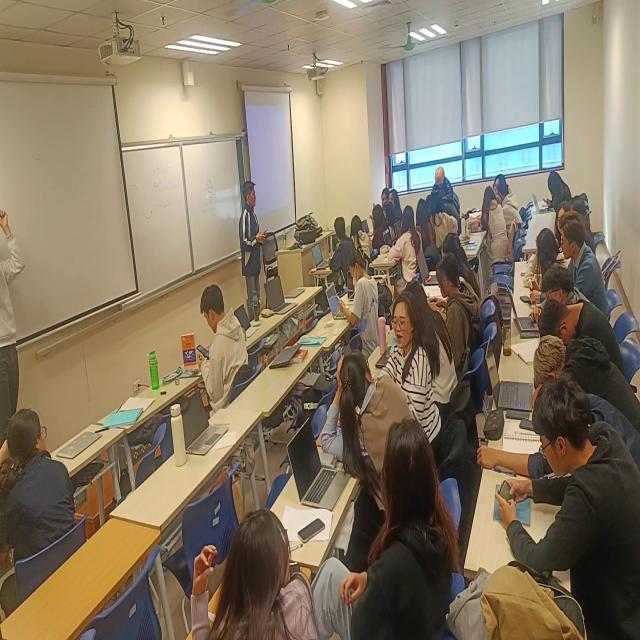raise_head: (318, 415, 456, 640), (1, 405, 75, 611), (433, 254, 481, 390), (559, 208, 614, 317), (431, 167, 462, 239), (495, 181, 525, 247)
sleep: (531, 333, 640, 425), (537, 293, 628, 364), (532, 263, 594, 309)
stand: (1, 199, 29, 453), (239, 173, 267, 319)
using_phone: (492, 376, 640, 640), (193, 277, 253, 416), (333, 248, 383, 361), (541, 167, 573, 212)
